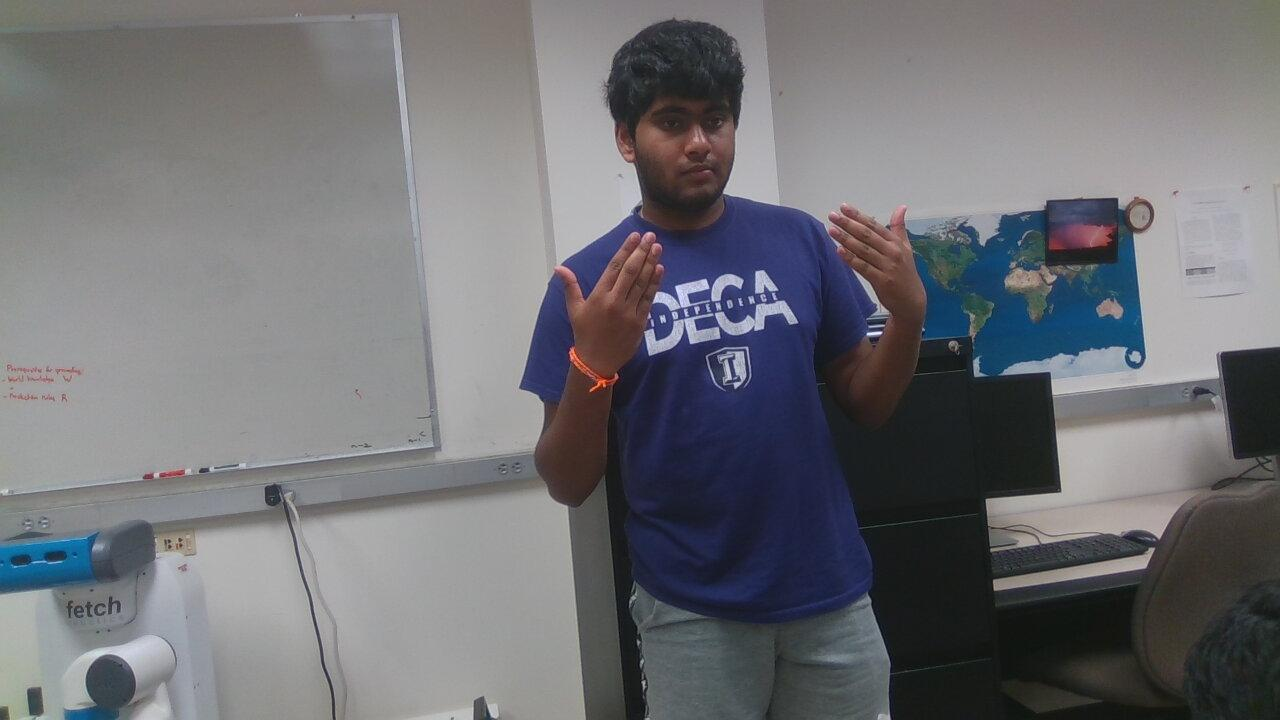hands: (538, 227, 679, 383), (816, 187, 942, 328)
